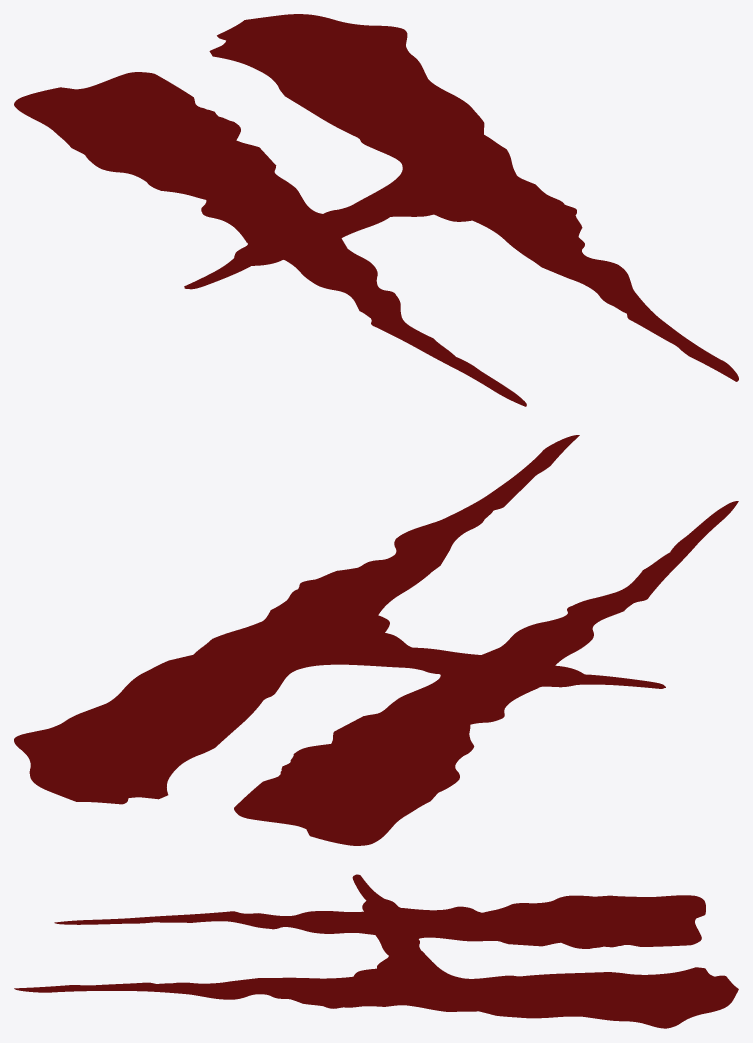
3 renders of one model, top to bottom at view 1: azimuth 30°, elevation 25°; view 2: azimuth 150°, elevation 25°; view 3: azimuth 270°, elevation 25°, orthographic. The views are drawn at different scales.
Parts seen in each view (by area): view 1: Text; view 2: Text; view 3: Text.
Boxes of the visible parts, left/top/right/bottom form: Text: left=14, top=14, right=738, bottom=406; Text: left=14, top=435, right=738, bottom=845; Text: left=14, top=874, right=738, bottom=1028.
Size of the model in its own units: 29.04 by 9.41e-06 by 57.74.
